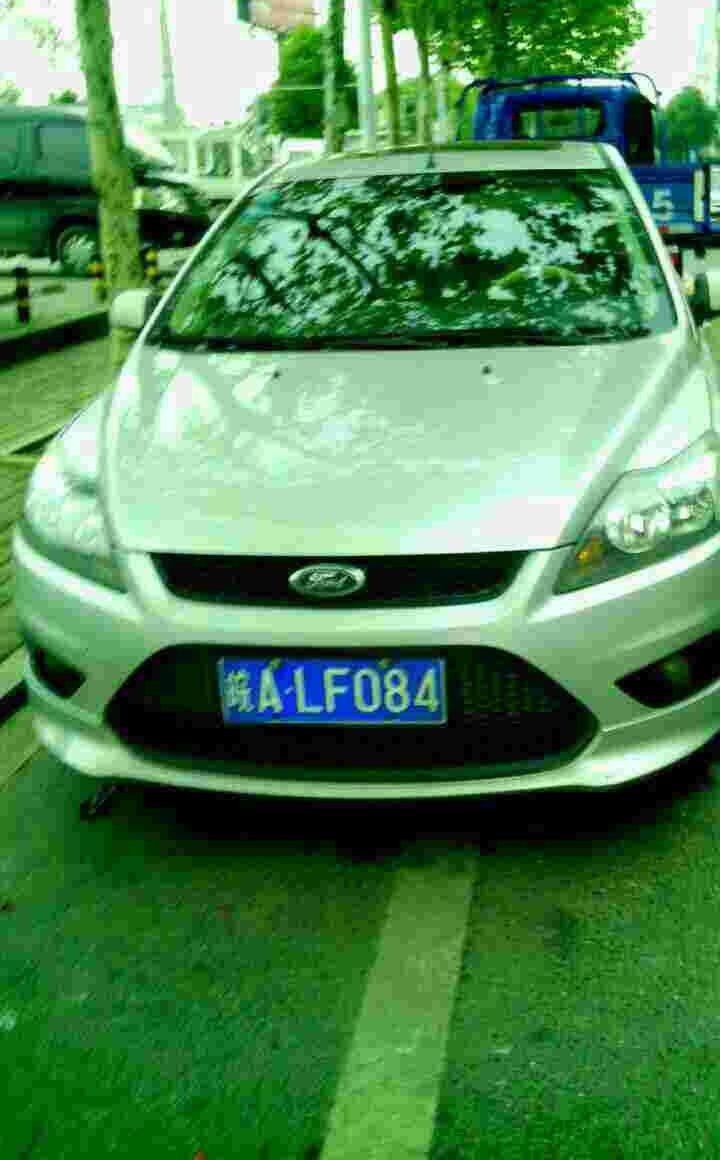license_plate: (215, 660, 442, 729)
